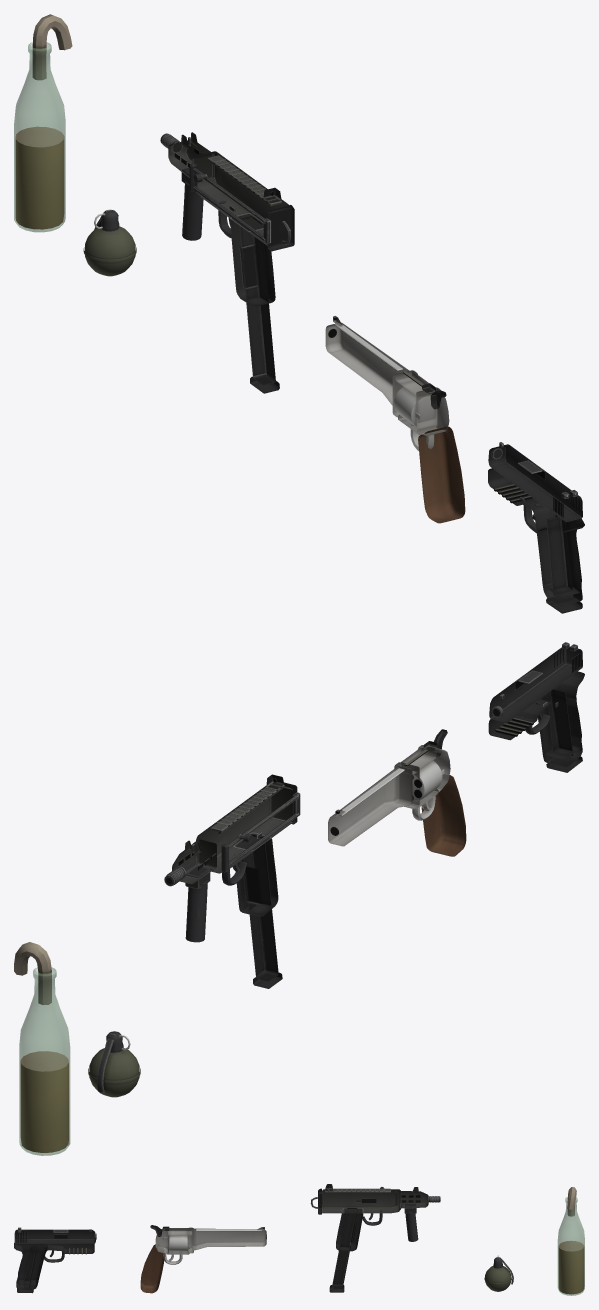
File: set_handguns.glb
The picture shows the model from 3 angles, top to bottom: view 1: azimuth 30°, elevation 25°; view 2: azimuth 150°, elevation 25°; view 3: azimuth 270°, elevation 25°; orthographic projection. The views are drawn at different scales.
Visible parts, largest first — view 1: smg_lod0, fire_bottle_lod0, heavy_revolver_lod0, pistol_lod0, smg_magazine, grenade_lod0, pistol_magazine, heavy_revolver_magazine; view 2: smg_lod0, fire_bottle_lod0, heavy_revolver_lod0, pistol_lod0, smg_magazine, grenade_lod0, pistol_magazine, heavy_revolver_magazine; view 3: smg_lod0, heavy_revolver_lod0, pistol_lod0, fire_bottle_lod0, smg_magazine, grenade_lod0, heavy_revolver_magazine, pistol_magazine.
Boxes of the visible parts, bbox=[...] form: smg_lod0: bbox=[160, 132, 294, 306]; fire_bottle_lod0: bbox=[14, 14, 72, 232]; heavy_revolver_lod0: bbox=[325, 316, 465, 523]; pistol_lod0: bbox=[488, 442, 584, 605]; smg_magazine: bbox=[239, 216, 279, 393]; grenade_lod0: bbox=[83, 209, 136, 276]; pistol_magazine: bbox=[546, 517, 582, 613]; heavy_revolver_magazine: bbox=[394, 386, 435, 426]; smg_lod0: bbox=[164, 774, 300, 942]; fire_bottle_lod0: bbox=[14, 942, 70, 1155]; heavy_revolver_lod0: bbox=[328, 729, 466, 856]; pistol_lod0: bbox=[488, 642, 584, 767]; smg_magazine: bbox=[242, 834, 282, 988]; grenade_lod0: bbox=[88, 1031, 140, 1097]; pistol_magazine: bbox=[546, 689, 582, 772]; heavy_revolver_magazine: bbox=[412, 760, 442, 800]; smg_lod0: bbox=[310, 1184, 440, 1251]; heavy_revolver_lod0: bbox=[140, 1225, 266, 1293]; pistol_lod0: bbox=[14, 1227, 96, 1290]; fire_bottle_lod0: bbox=[557, 1187, 584, 1295]; smg_magazine: bbox=[329, 1208, 357, 1292]; grenade_lod0: bbox=[484, 1255, 513, 1291]; heavy_revolver_magazine: bbox=[168, 1235, 188, 1251]; pistol_magazine: bbox=[17, 1246, 36, 1293].
Size of what is drawn, in the model's own units: 0.0772 by 0.266 by 1.3.
Materials: 2 (1 with a texture image).
